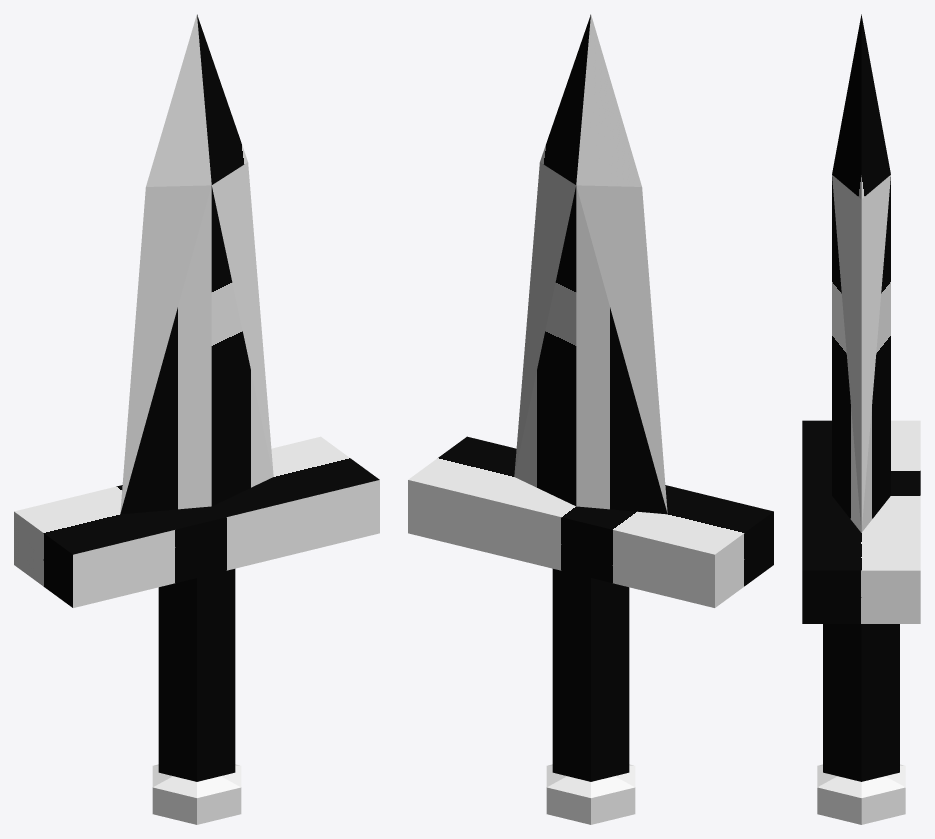
File: dagger.glb
3 views of the same model, side by side, from view 1: azimuth 30°, elevation 25°; view 2: azimuth 150°, elevation 25°; view 3: azimuth 270°, elevation 25° (orthographic).
Visible parts, largest first — view 1: blade, guard, grip, pommel; view 2: blade, guard, grip, pommel; view 3: blade, guard, grip, pommel.
Boxes of the visible parts, x1,y1,x2,y2 form: blade: (120, 14, 273, 514); guard: (14, 436, 379, 607); grip: (158, 569, 235, 781); pommel: (152, 764, 241, 824); blade: (514, 14, 667, 514); guard: (408, 436, 773, 607); grip: (552, 569, 629, 781); pommel: (546, 764, 635, 824); blade: (832, 14, 890, 532); guard: (802, 420, 920, 623); grip: (823, 624, 899, 781); pommel: (817, 764, 905, 824).
Bounding box in the file's own units: 0.375 × 0.9375 × 0.125.
4 materials, 4 textured.
